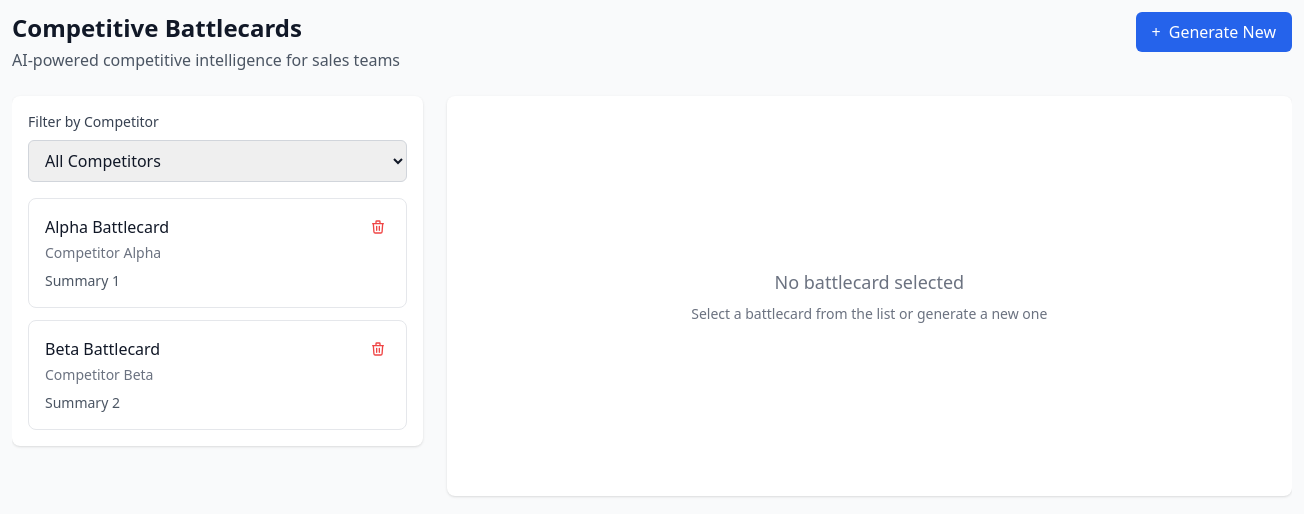
BattlecardsPage › Battlecards List › should filter battlecards by competitor
This screenshot has width=1304, height=514.
Expected: the heading "Alpha Battlecard" is shown, x1=45 y1=216 x2=169 y2=238
Expected: the heading "Beta Battlecard" is shown, x1=45 y1=338 x2=160 y2=360
Select "Competitor Alpha" in the dropdown with id "filter-competitor" at [217, 161], box x1=28 y1=140 x2=407 y2=182
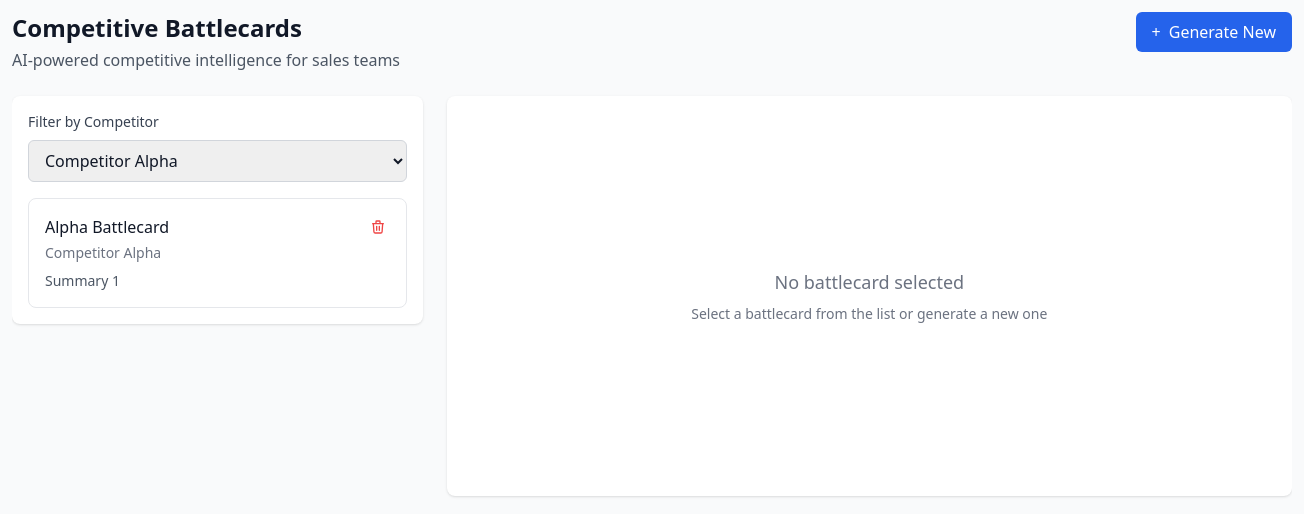
Expected: the heading "Alpha Battlecard" is shown, x1=45 y1=216 x2=169 y2=238
Now the heading "Beta Battlecard" is gone
